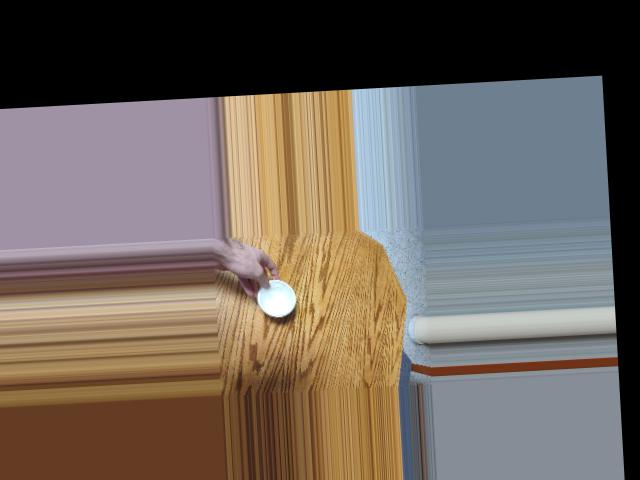cotage: (254, 277, 296, 318)
